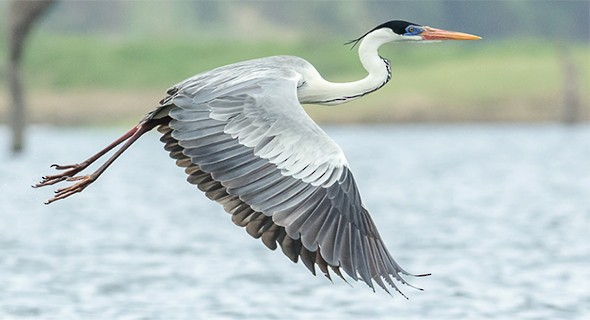heron: (36, 18, 500, 312)
